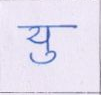u_matra: (29, 50, 57, 65)
